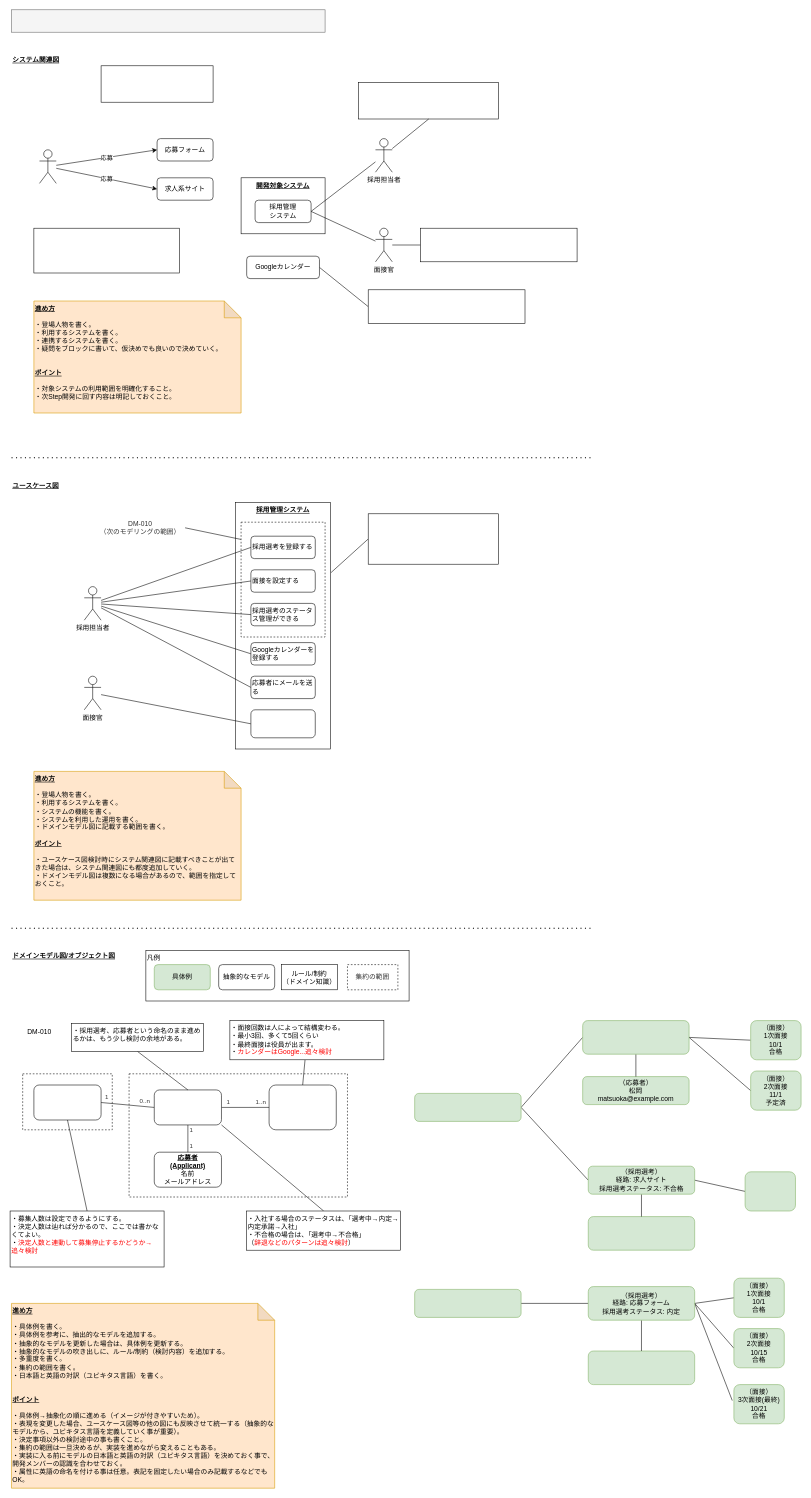
Image size: 811x1498. Some labels were removed from this diagram. Each missing label, with the centre of its shape:
"サーバーサイドエンジニア 3人 募集中" goes at (467,1107).
"モデルケース：人事などの採用担当者が企業への応募者を管理する「採用管理システム」" goes at (168,20).
"・Googleカレンダー連携は、運用が回ってから機能追加することとする。" goes at (446,306).
"・まずは応募者情報の手入力から始める。 ・応募フォームからの自動連係は、採用管理システムの運用が回ってから検討する。" goes at (428,100).
"・応募経路は複数ある: 会社の求人ページ、知人の紹介、SNSで声掛けした... etc. →一旦、応募は採用管理システム外で行う。" goes at (106,250).
"・応募者は、採用担当者がまず一時受けし、面接官をアサインする。 （ これで運用が回るのかどうかは要確認 ） ・Googleカレンダー連携は後回し" goes at (433,538).
"・担当する応募者の情報を見る。 ・担当外の応募者の情報は見れてはいけない。" goes at (498,245).
"営業" goes at (467,1303).
"応募者" goes at (47,166).
"採用ポジション (Position) 名前" goes at (67,1102).
"採用選考 (Screening) 採用選考ステータス 経路" goes at (187,1107).
"自分が担当する採用選考の情報を参照する" goes at (282,723).
"論点 ・応募者がシステムを使う？" goes at (157,83).
"面接 (Interview) 面接次数 日時 面接ステータス" goes at (302,1107).
"（応募者） 山本 yamamoto@example.com" goes at (641,1367).
"（応募者） 田中 tanaka@example.com" goes at (641,1233).
"（採用選考） 経路: 知人の紹介 採用選考ステータス: 選考中" goes at (635,1037).
"（面接） 1次面接 10/1 不合格" goes at (770,1191).
